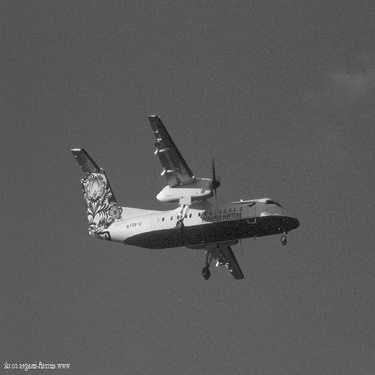airplane: (55, 108, 303, 287)
